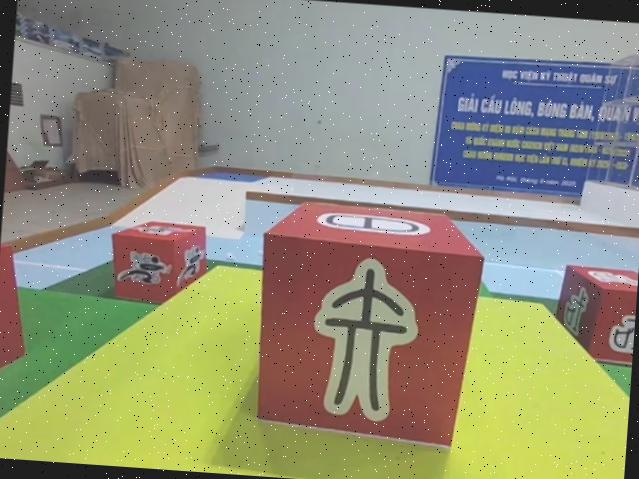R1: (105, 213, 210, 304)
R2 Fake: (250, 197, 487, 455)
R2 Real: (550, 259, 638, 365)
